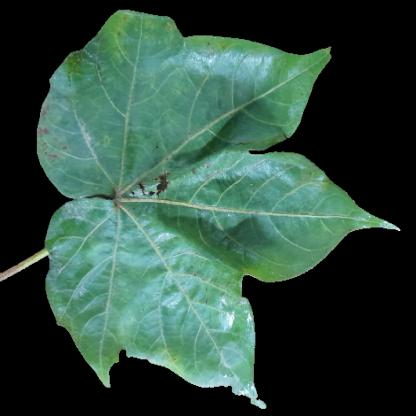curl_stage1: (104, 13, 142, 60), (245, 241, 279, 281), (159, 345, 191, 376)
healthy: (103, 212, 235, 316), (99, 73, 220, 143), (176, 161, 262, 212), (264, 160, 313, 236), (57, 145, 124, 191), (54, 250, 99, 317), (226, 98, 278, 151), (49, 83, 101, 129), (206, 333, 254, 380), (191, 38, 248, 74)
